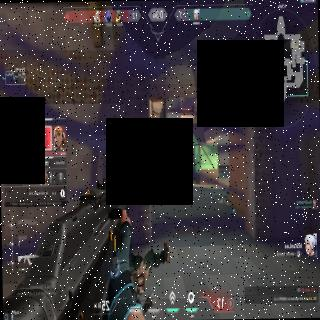ENEMY-BODY: (171, 153, 174, 164)
ENEMY-HEAD: (172, 152, 174, 157)
